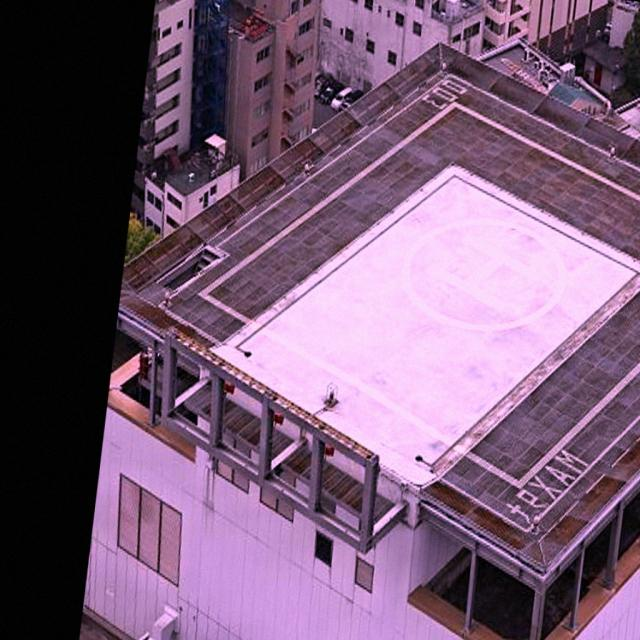helipad: (397, 213, 568, 336)
